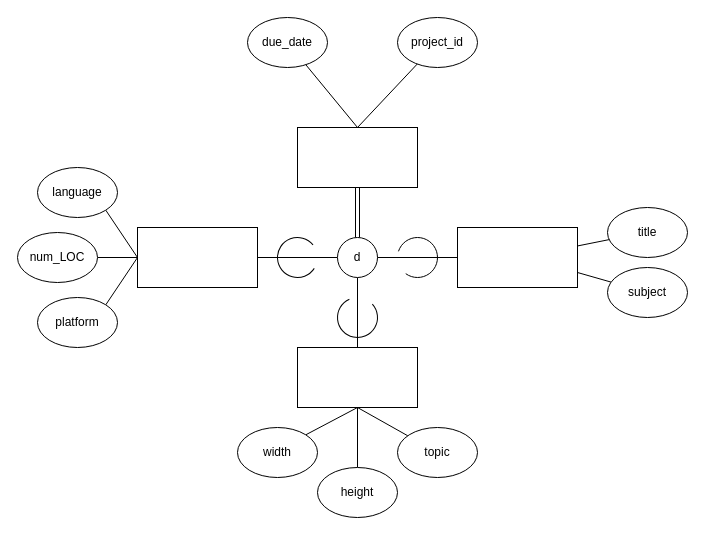
The diagram is 705 pixels wide and 535 high, and some of its shapes have lost their labels. Each missing label, with the centre of its shape:
poster: point (357, 377)
programs: point (197, 257)
project: point (357, 157)
research_paper: point (517, 257)
